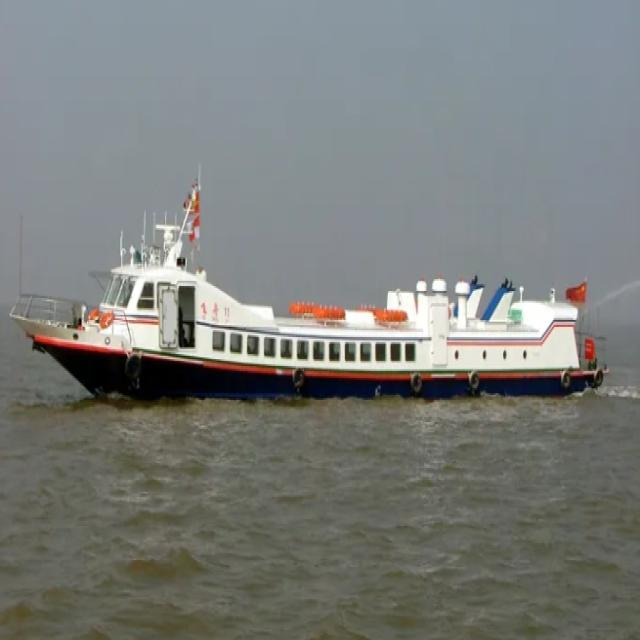houseboat: (7, 178, 608, 416)
